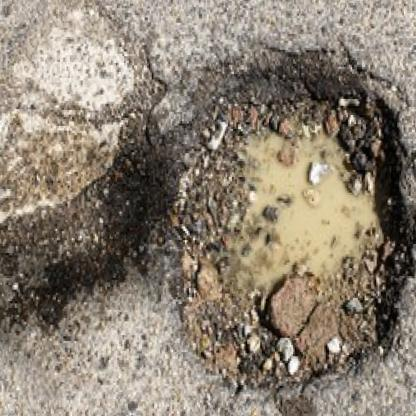pothole: (173, 52, 416, 385), (0, 4, 165, 349)
